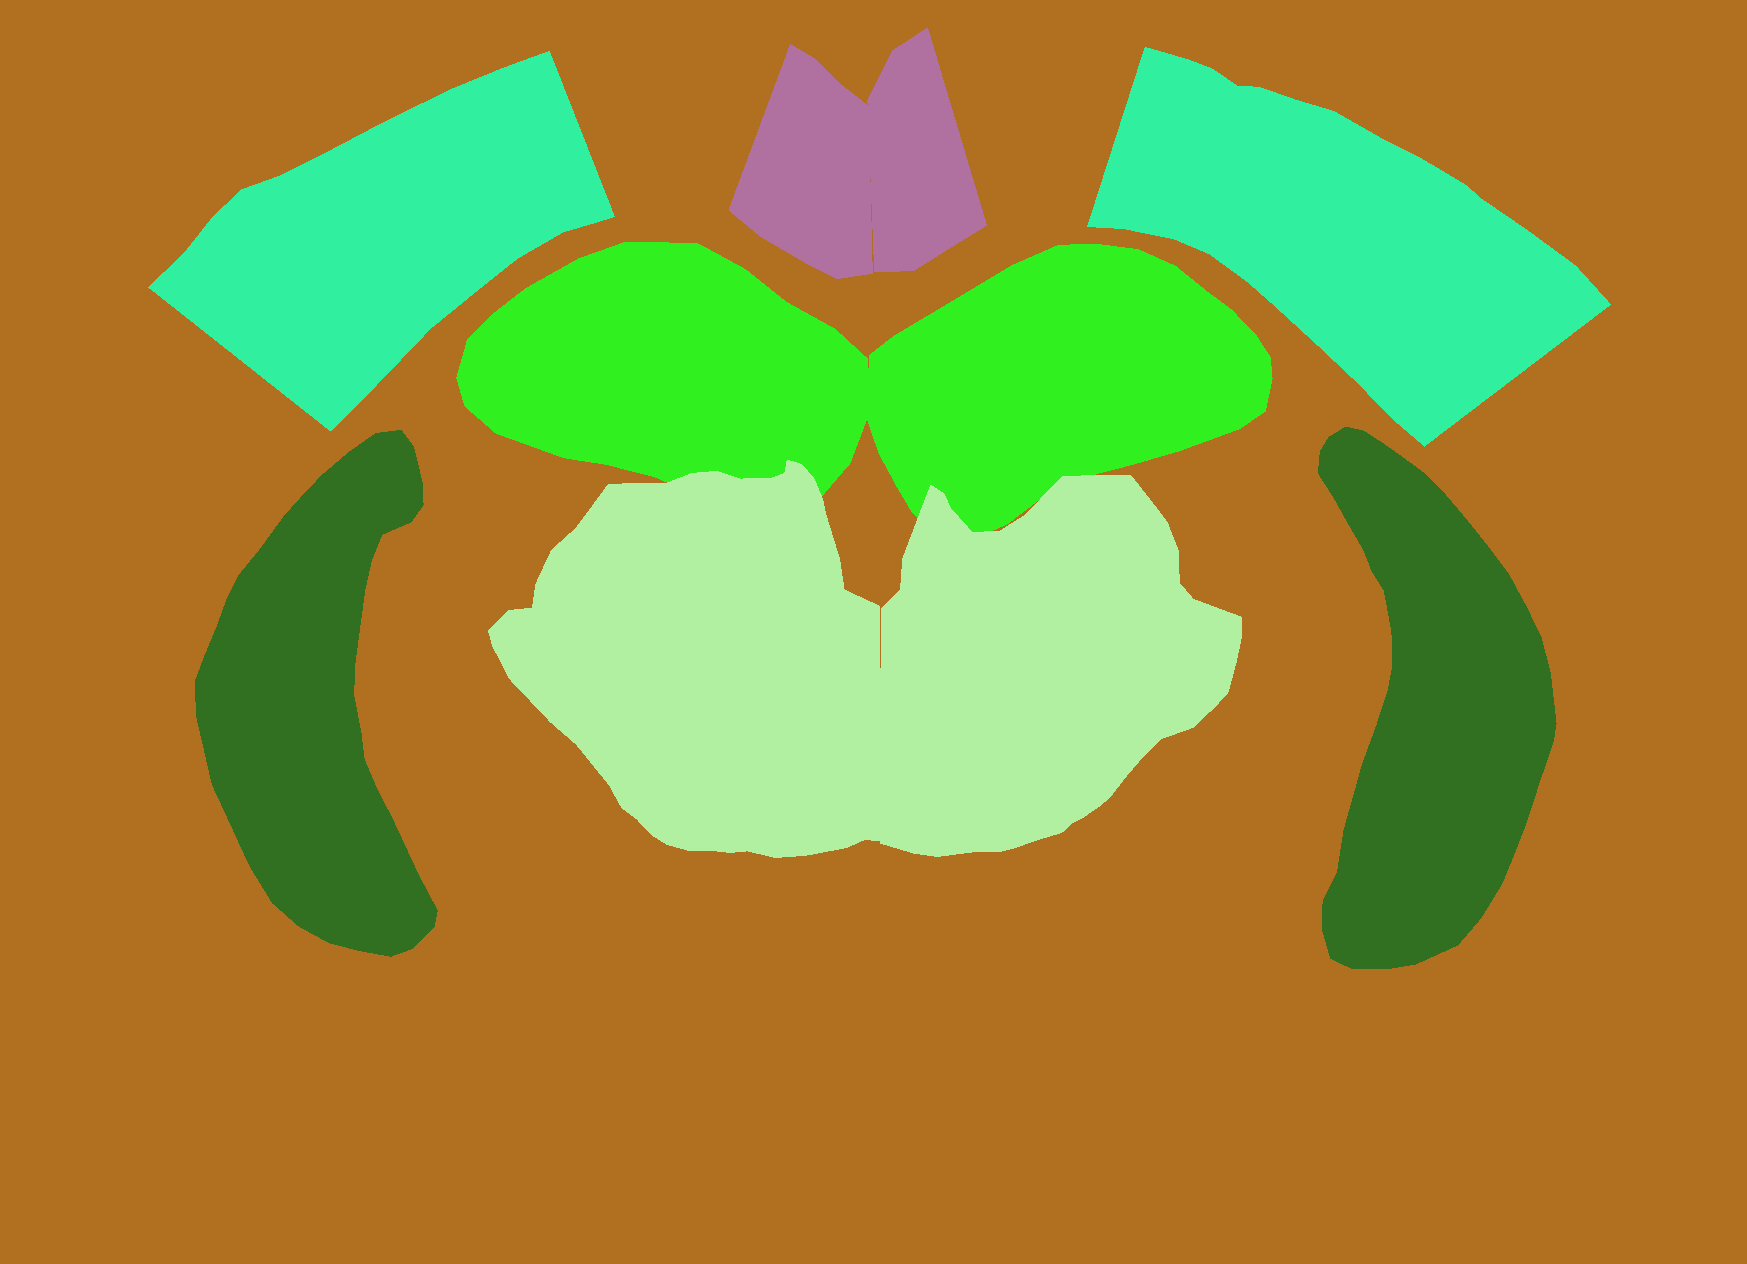Cerebral nuclei: (1318, 427, 1557, 970), (195, 430, 438, 957)
Hippocampal formation: (456, 241, 868, 537), (865, 244, 1272, 542)
Retrosplenial area: (728, 43, 872, 279), (867, 27, 987, 273)
Somatosensory area: (1086, 47, 1611, 448), (148, 52, 614, 433)
Thalamus: (488, 458, 880, 858), (880, 475, 1242, 857)
